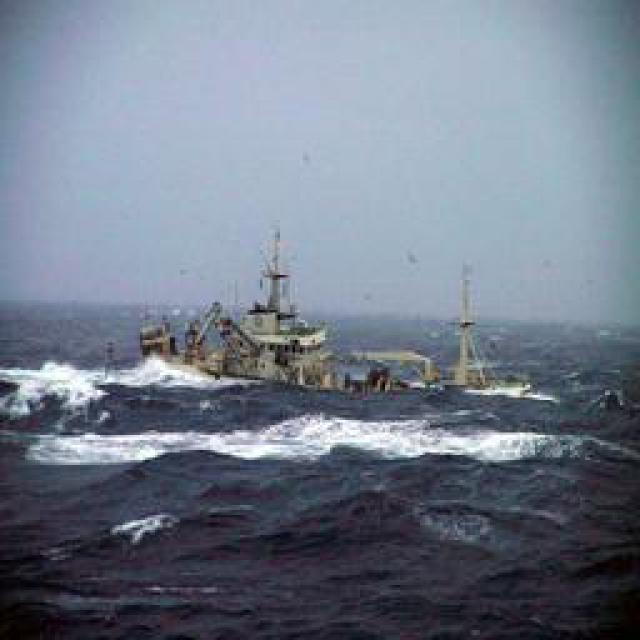Ship: (116, 224, 568, 430)
